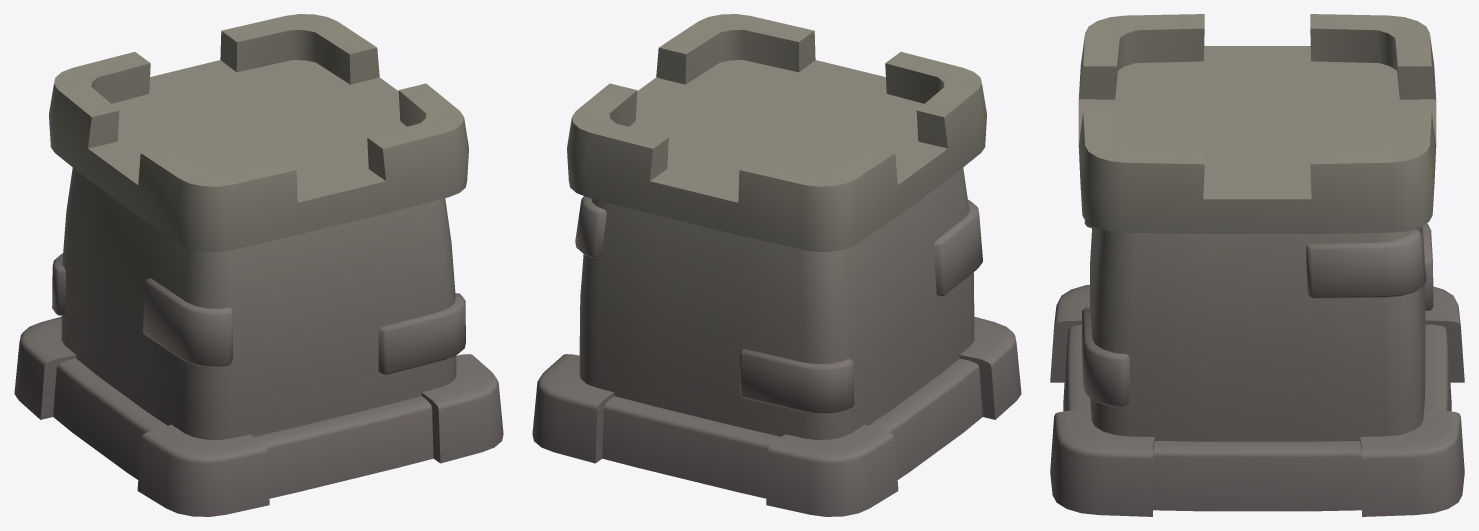
The model's file is mageTower_lvl2.fbx.
3 views of the same model, side by side, from view 1: azimuth 30°, elevation 25°; view 2: azimuth 150°, elevation 25°; view 3: azimuth 270°, elevation 25° (orthographic). The views are drawn at different scales.
Parts seen in each view (by area): view 1: mageTower_lvl2; view 2: mageTower_lvl2; view 3: mageTower_lvl2.
Boxes of the visible parts, <box> form: mageTower_lvl2: <box>14,14,503,516</box>; mageTower_lvl2: <box>532,14,1021,516</box>; mageTower_lvl2: <box>1050,14,1464,516</box>.
Size of the model in its own units: 172 by 152 by 169.
